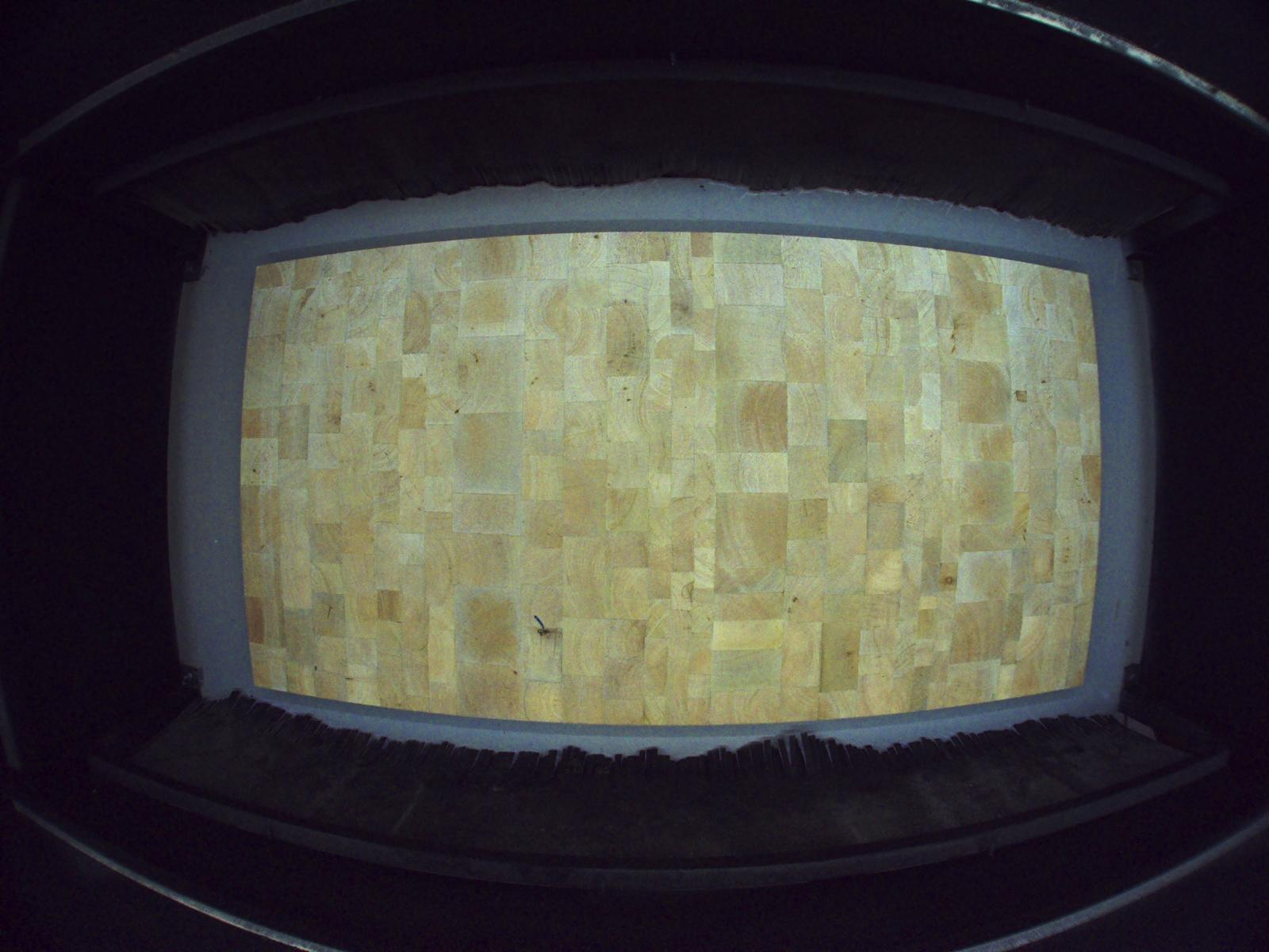nudillo: (536, 627, 552, 638)
